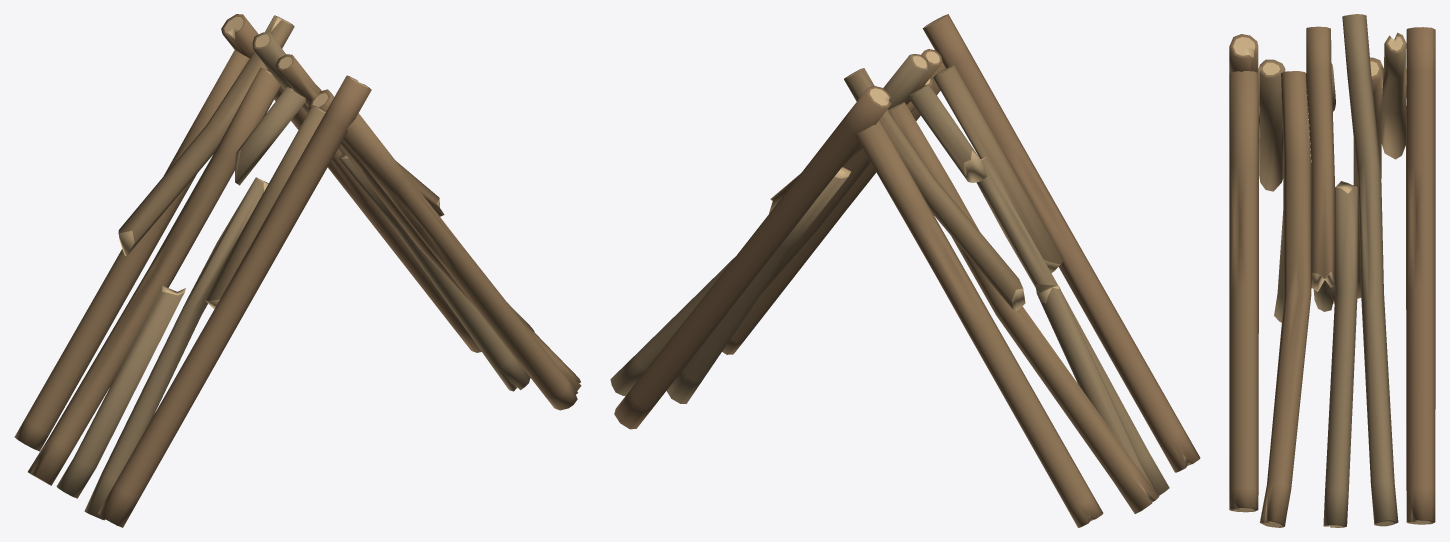
File: rpgpp_av_roof_01_6x5x3_a.gltf
The picture shows the model from 3 angles, left to right: view 1: azimuth 30°, elevation 25°; view 2: azimuth 150°, elevation 25°; view 3: azimuth 270°, elevation 25°; orthographic projection. The views are drawn at different scales.
Visible parts, largest first — view 1: rpgpp_av_roof_01_6x5x3_a; view 2: rpgpp_av_roof_01_6x5x3_a; view 3: rpgpp_av_roof_01_6x5x3_a.
Boxes of the visible parts, box(x1,y1,x2,y2) form: rpgpp_av_roof_01_6x5x3_a: box(14, 14, 581, 527); rpgpp_av_roof_01_6x5x3_a: box(610, 14, 1200, 527); rpgpp_av_roof_01_6x5x3_a: box(1229, 14, 1435, 527).
Size of the model in its own units: 0.0863 by 0.0656 by 0.03.
1 material, 1 textured.
